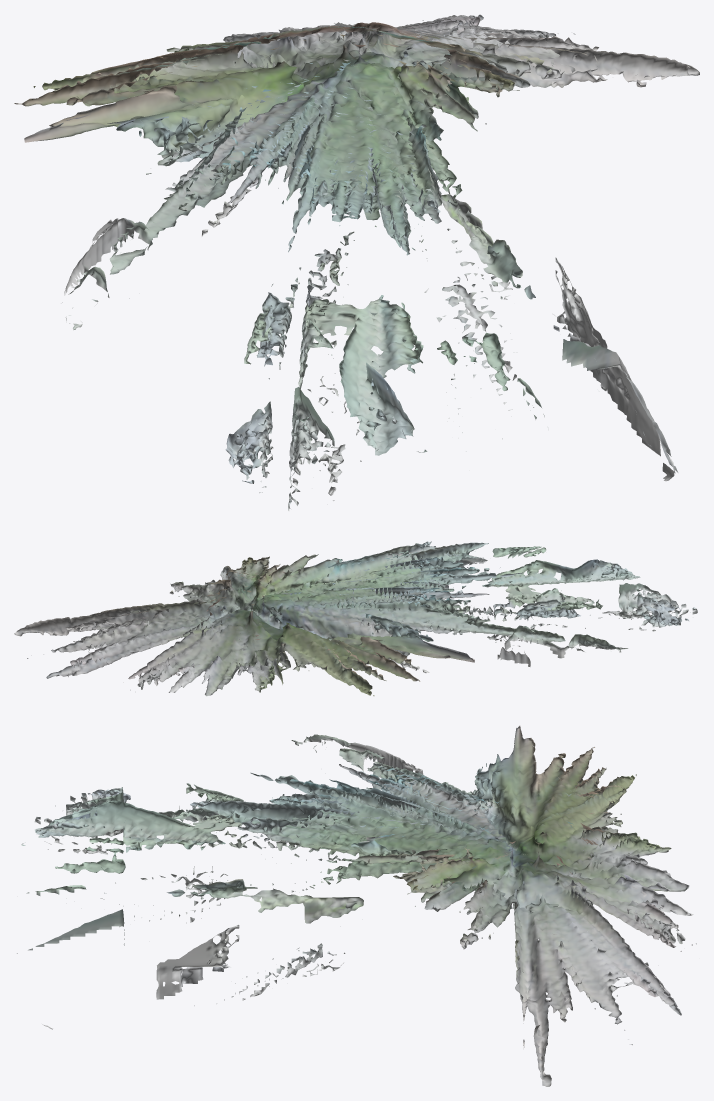
File: collider.glb
3 views of the same model, one above another, from view 1: azimuth 30°, elevation 25°; view 2: azimuth 150°, elevation 25°; view 3: azimuth 270°, elevation 25° (orthographic). The views are drawn at different scales.
Parts seen in each view (by area): view 1: world; view 2: world; view 3: world.
Boxes of the visible parts, <box> form: world: <box>14,14,699,510</box>; world: <box>14,541,697,696</box>; world: <box>17,725,696,1086</box>.
Bounding box in the file's own units: 80.67 × 23.29 × 76.45.
